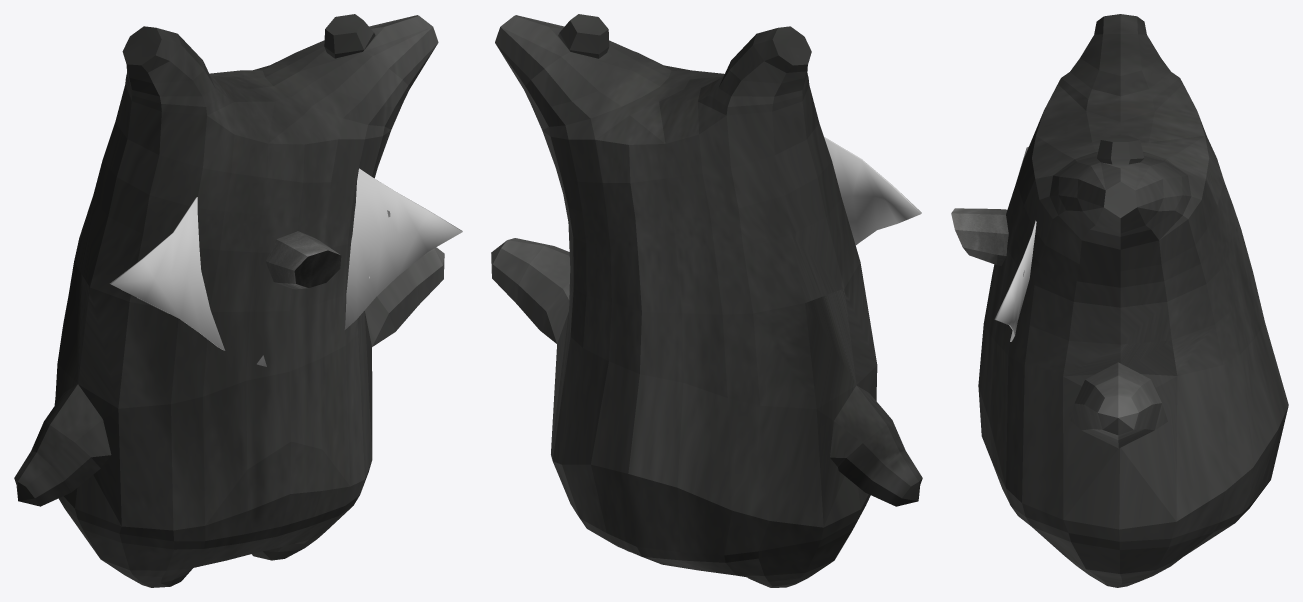
Rendered from frame_0053.obj.
3 renders of one model, left to right at view 1: azimuth 30°, elevation 25°; view 2: azimuth 150°, elevation 25°; view 3: azimuth 270°, elevation 25°, orthographic. The views are drawn at different scales.
Parts seen in each view (by area): view 1: korok, leaf, nose; view 2: korok, leaf; view 3: korok, nose, leaf.
Boxes of the visible parts, box(x1,y1,x2,y2) form: korok: box(14, 14, 444, 587); leaf: box(110, 168, 462, 366); nose: box(266, 231, 341, 289); korok: box(491, 14, 922, 587); leaf: box(824, 137, 921, 245); korok: box(978, 14, 1288, 587); nose: box(951, 208, 1008, 265); leaf: box(994, 146, 1036, 341).
Bounding box in the file's own units: 1.72 × 2.15 × 1.27.
